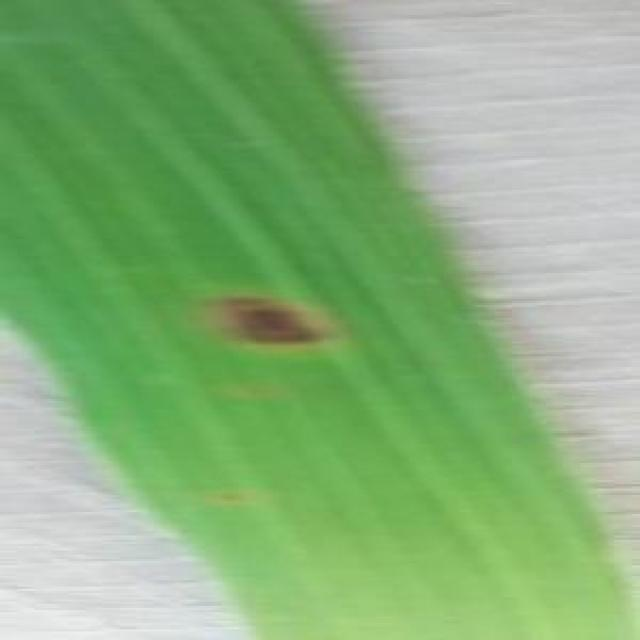brownspots: (213, 290, 324, 360)
